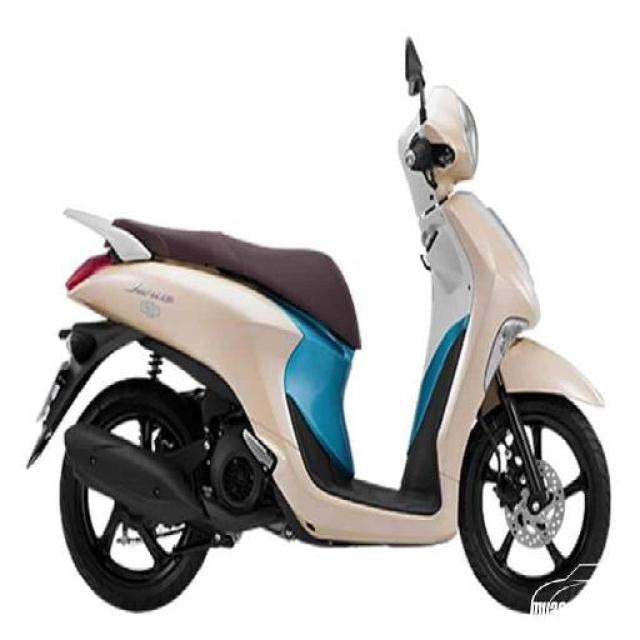All: (25, 82, 617, 615)
Head: (398, 84, 478, 184)
Tail: (55, 196, 152, 301)
